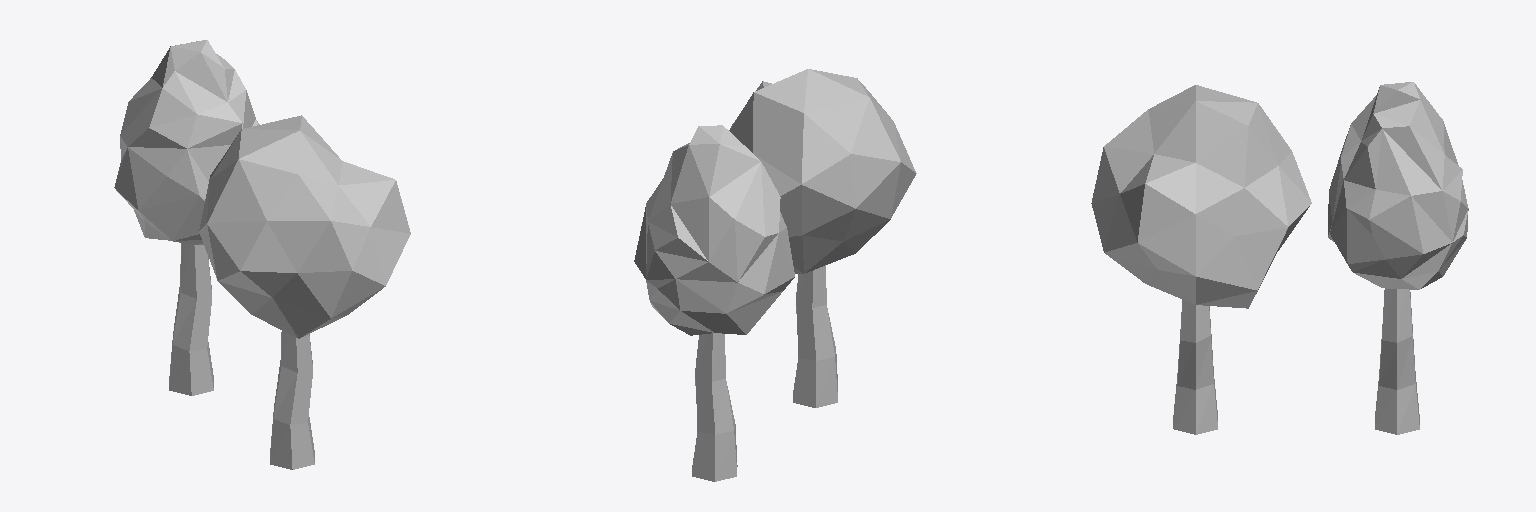
Rendered from Tree_002.obj.
3 renders of one model, left to right at view 1: azimuth 30°, elevation 25°; view 2: azimuth 150°, elevation 25°; view 3: azimuth 270°, elevation 25°, orthographic.
Visible parts, largest first — view 1: group2 pPlatonic1, pCube1 group1, group1 pCylinder1, pCylinder2 group2; view 2: pCube1 group1, group2 pPlatonic1, group1 pCylinder1, pCylinder2 group2; view 3: group2 pPlatonic1, pCube1 group1, group1 pCylinder1, pCylinder2 group2.
Part boxes in pixels (left/top/right/bottom): group2 pPlatonic1: left=199, top=115, right=410, bottom=338; pCube1 group1: left=114, top=40, right=259, bottom=244; group1 pCylinder1: left=169, top=243, right=213, bottom=395; pCylinder2 group2: left=270, top=331, right=314, bottom=469; pCube1 group1: left=634, top=125, right=794, bottom=335; group2 pPlatonic1: left=729, top=69, right=916, bottom=273; group1 pCylinder1: left=692, top=333, right=737, bottom=481; pCylinder2 group2: left=793, top=265, right=837, bottom=407; group2 pPlatonic1: left=1091, top=85, right=1311, bottom=308; pCube1 group1: left=1328, top=82, right=1468, bottom=289; group1 pCylinder1: left=1375, top=288, right=1419, bottom=434; pCylinder2 group2: left=1173, top=299, right=1217, bottom=434.
Size of the model in its own units: 5.16 by 9.24 by 9.25.